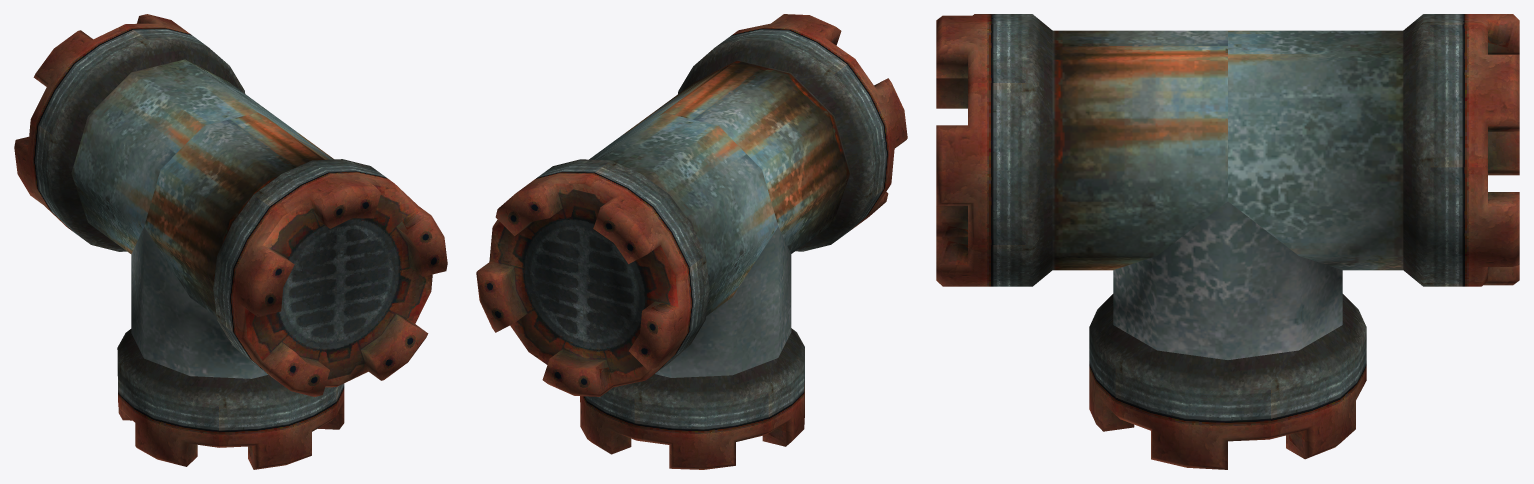
The model's file is tau_tech_3way.DAE.
3 renders of one model, left to right at view 1: azimuth 30°, elevation 25°; view 2: azimuth 150°, elevation 25°; view 3: azimuth 270°, elevation 25°, orthographic. The views are drawn at different scales.
Parts seen in each view (by area): view 1: polySurface797; view 2: polySurface797; view 3: polySurface797.
Boxes of the visible parts, box(x1,y1,x2,y2) form: polySurface797: box(14, 14, 447, 469); polySurface797: box(476, 14, 907, 469); polySurface797: box(936, 14, 1519, 469).
Bounding box in the file's own units: 0.4984 × 0.7804 × 1.06.
